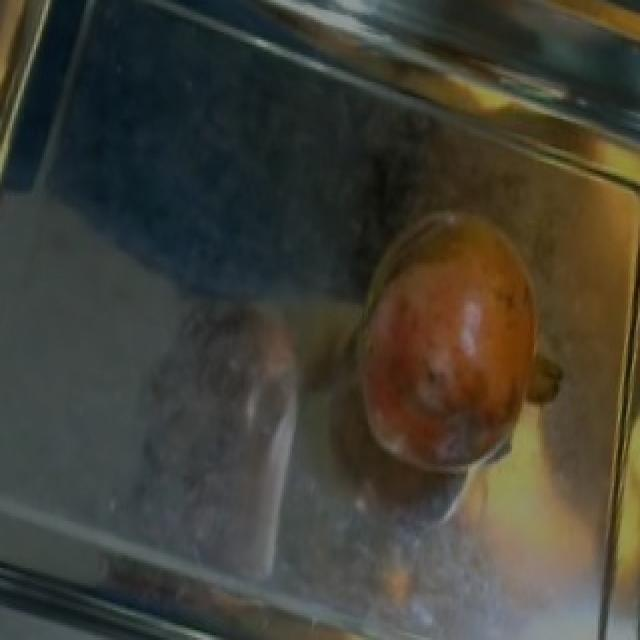fruit: (328, 188, 570, 466)
